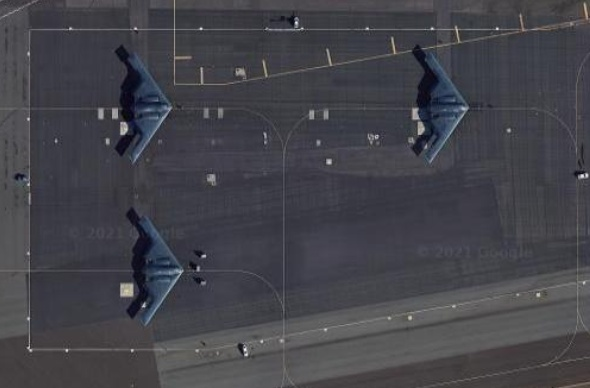B2: (125, 48, 173, 166), (422, 49, 470, 166), (137, 213, 185, 329)
